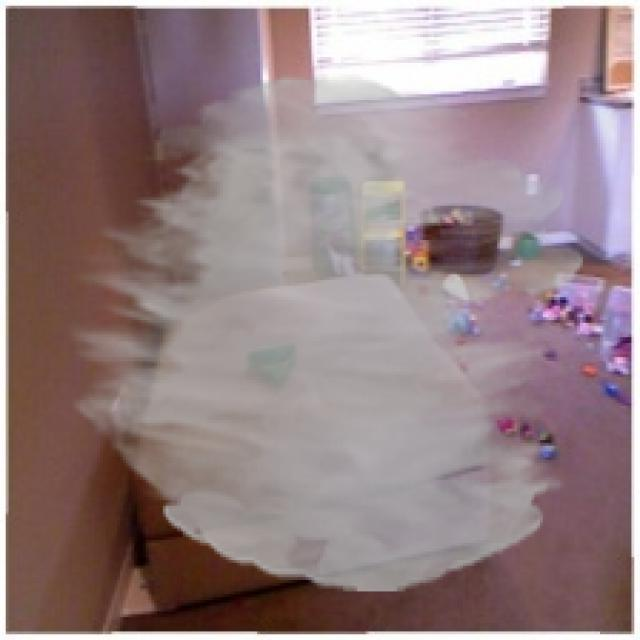Smoke: (68, 74, 583, 592)
